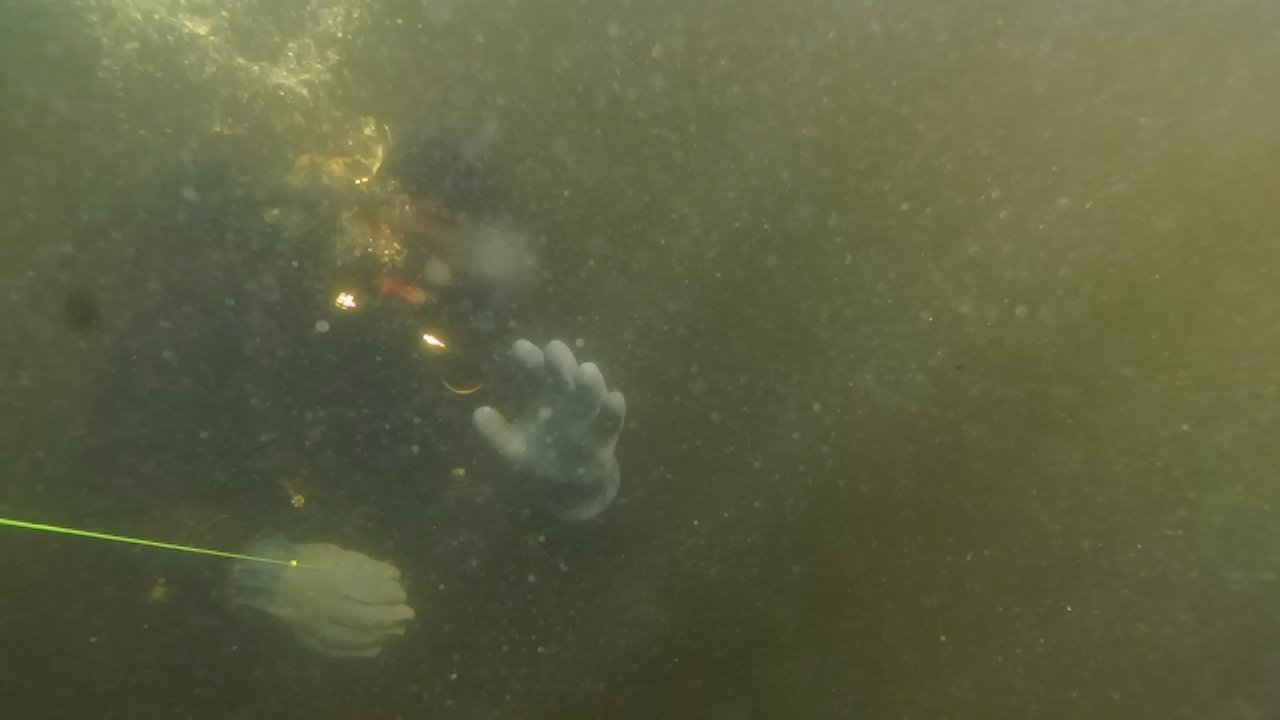Diver: (104, 90, 664, 708)
Hand: (454, 314, 642, 532), (198, 496, 420, 666)
